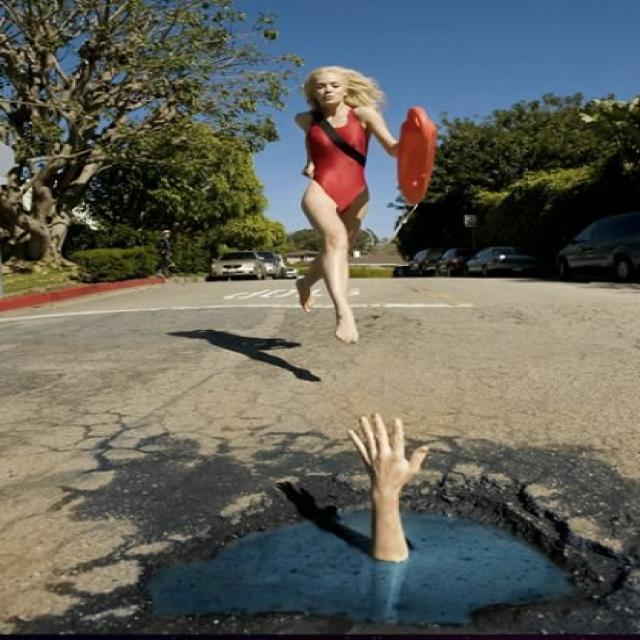pothole: (118, 461, 640, 639)
